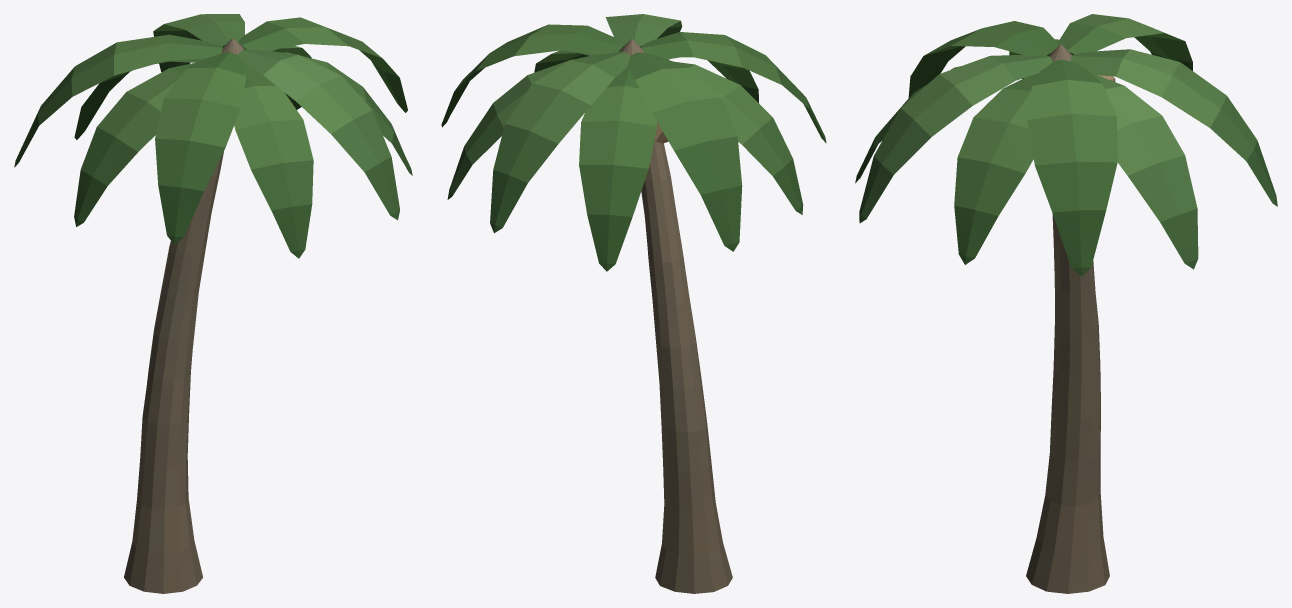
The model's file is Coconut_Pile.glb.
3 views of the same model, side by side, from view 1: azimuth 30°, elevation 25°; view 2: azimuth 150°, elevation 25°; view 3: azimuth 270°, elevation 25° (orthographic). The views are drawn at different scales.
Visible parts, largest first — view 1: Coconut_Palm_Merged; view 2: Coconut_Palm_Merged; view 3: Coconut_Palm_Merged.
Part boxes in pixels (left/top/right/bottom): Coconut_Palm_Merged: left=14, top=14, right=412, bottom=593; Coconut_Palm_Merged: left=441, top=14, right=826, bottom=593; Coconut_Palm_Merged: left=855, top=14, right=1277, bottom=593.
Size of the model in its own units: 3.87 by 5.65 by 3.8.
